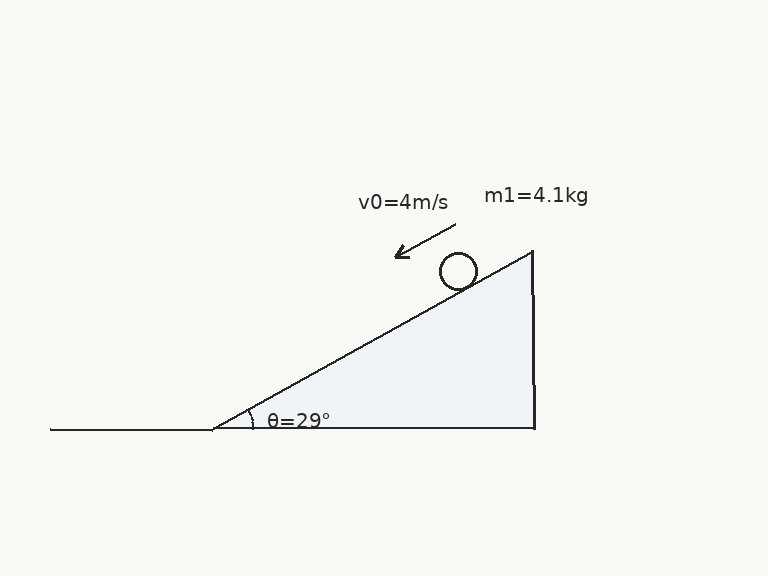ball: (437, 250, 479, 292)
ramp: (211, 250, 535, 431)
